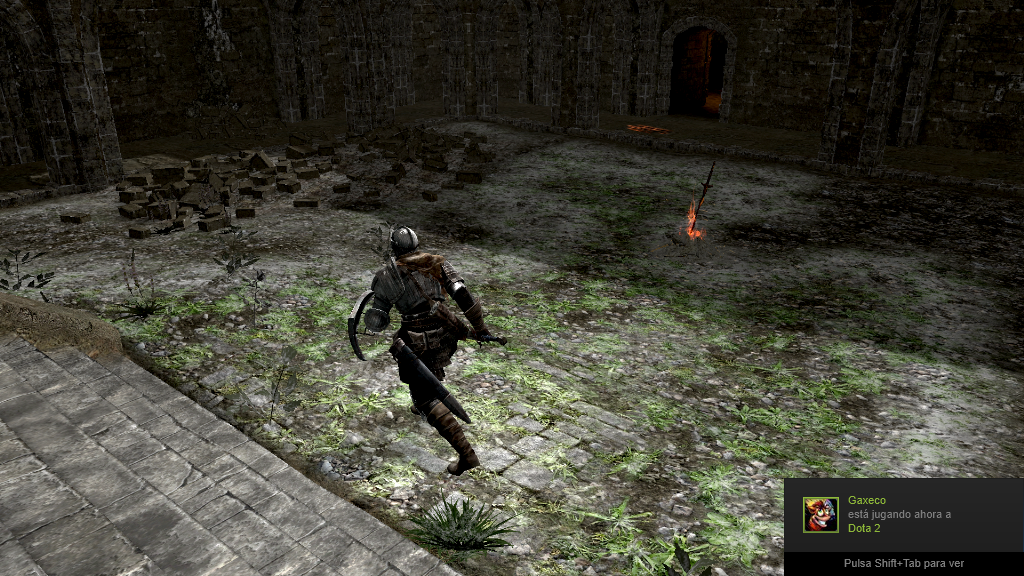bonfire: (684, 160, 717, 242)
player: (344, 221, 513, 478)
